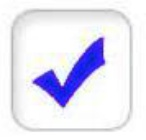CheckBox: (1, 1, 145, 139)
